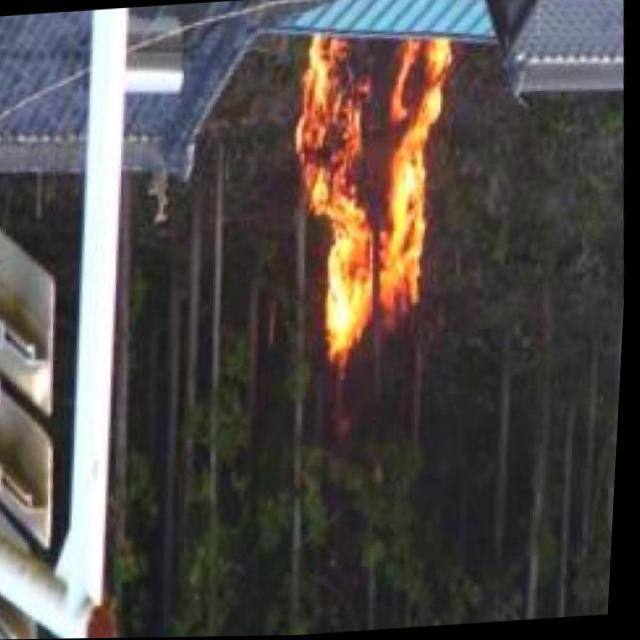fire: (278, 26, 470, 348)
